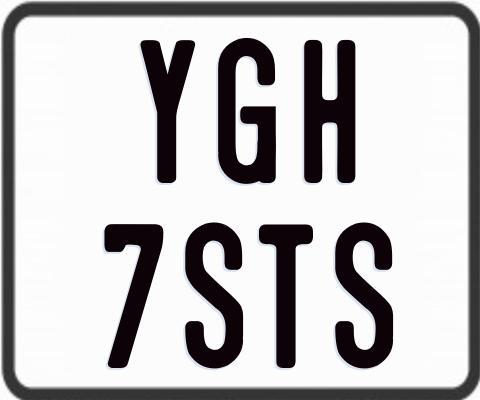7: (103, 221, 168, 371)
G: (218, 35, 279, 187)
H: (301, 39, 358, 185)
S: (184, 219, 246, 367), (333, 222, 393, 369)
T: (258, 222, 317, 369)
Y: (138, 40, 197, 186)
